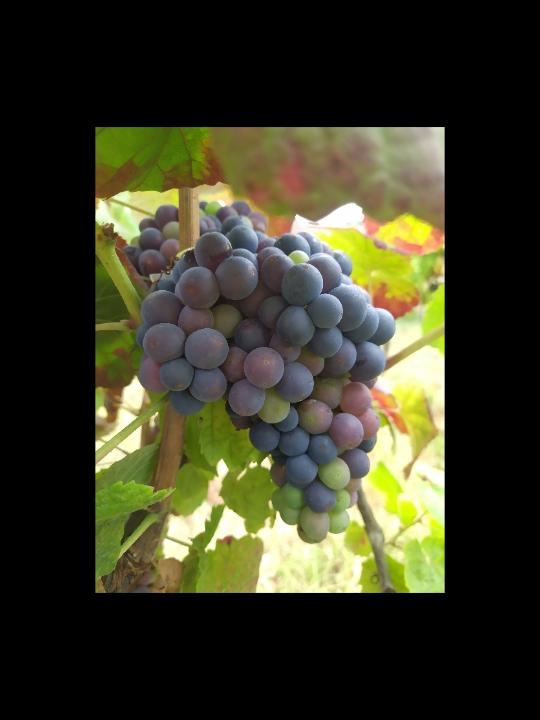grape: (135, 215, 397, 546)
